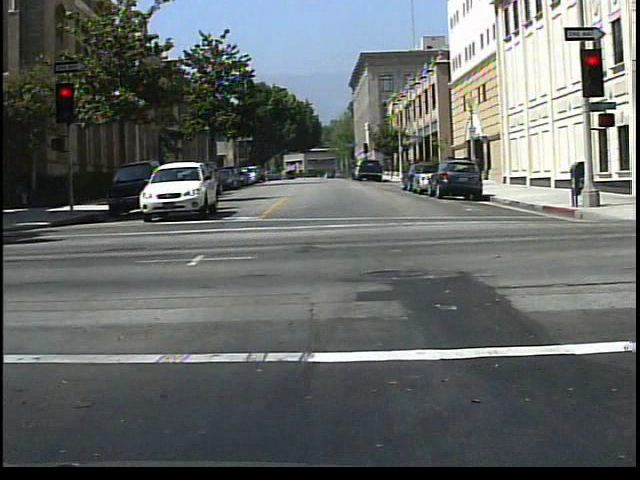person: (276, 165, 291, 187)
